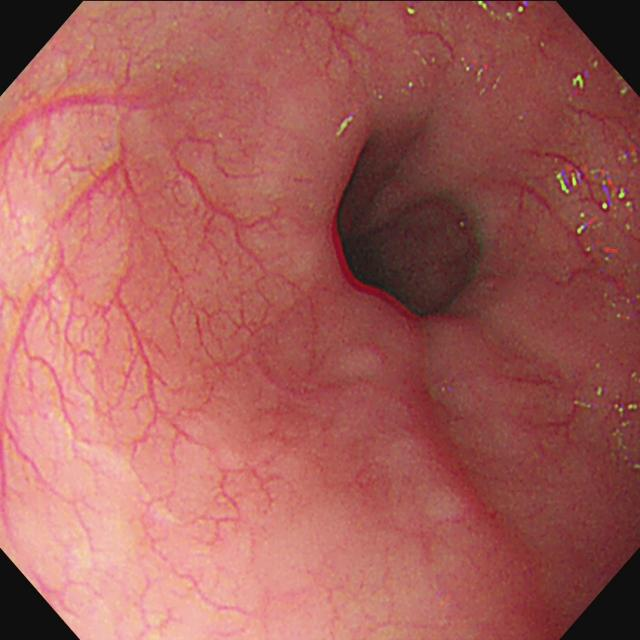E: (322, 136, 470, 327)
U: (555, 170, 578, 195)
